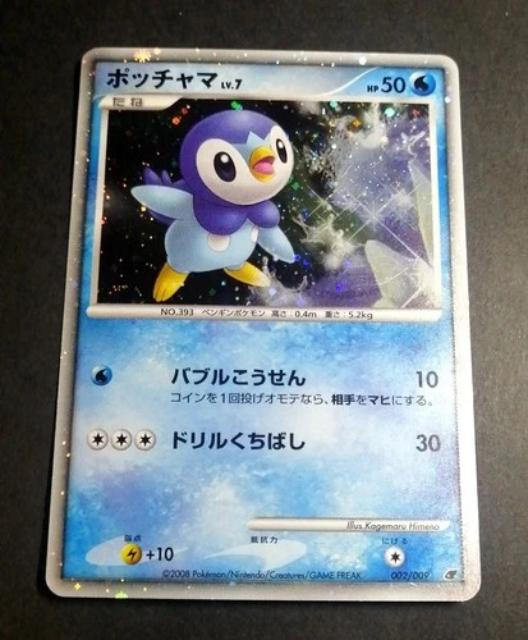Card: (38, 44, 485, 604)
Name: (100, 59, 226, 92)
